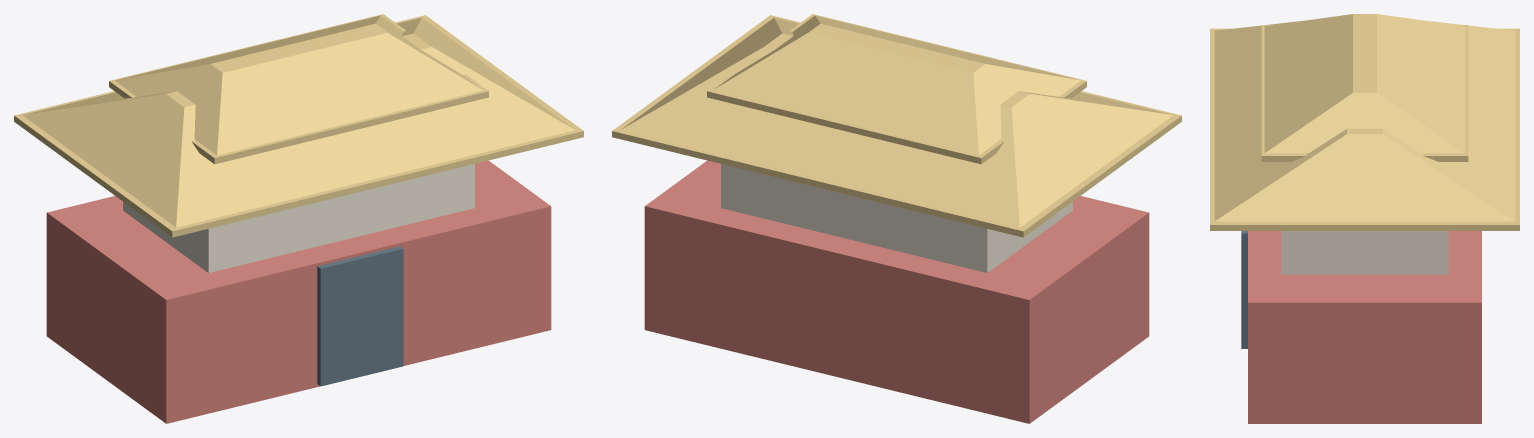
The model's file is gate.glb.
3 renders of one model, left to right at view 1: azimuth 30°, elevation 25°; view 2: azimuth 150°, elevation 25°; view 3: azimuth 270°, elevation 25°, orthographic. The views are drawn at different scales.
Visible parts, largest first — view 1: gate; view 2: gate; view 3: gate.
Part boxes in pixels (box(x1,y1,x2,y2)): gate: box(14, 14, 583, 423); gate: box(612, 14, 1181, 423); gate: box(1210, 14, 1519, 423).
Bounding box in the file's own units: 13.9 × 9.2 × 9.27.
